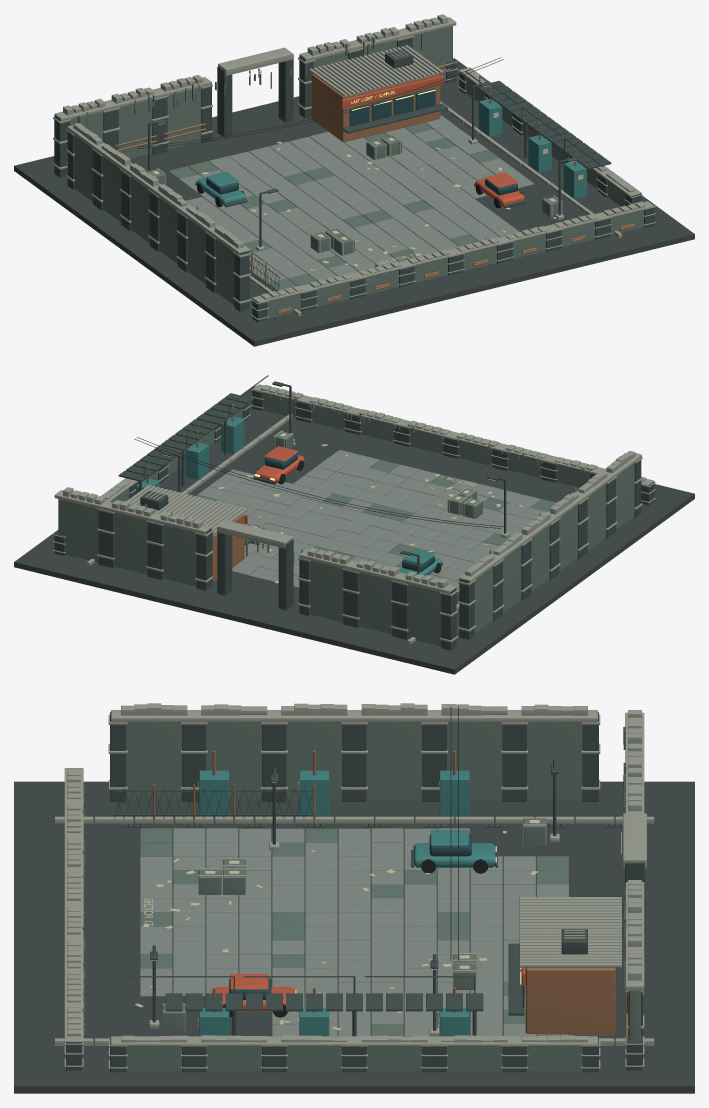
Rendered from district.glb.
3 renders of one model, top to bottom at view 1: azimuth 30°, elevation 25°; view 2: azimuth 150°, elevation 25°; view 3: azimuth 270°, elevation 25°, orthographic. The views are drawn at different scales.
Parts seen in each view (by area): view 1: District static geometry; view 2: District static geometry; view 3: District static geometry.
Boxes of the visible parts, left/top/right/bottom form: District static geometry: left=14, top=14, right=694, bottom=346; District static geometry: left=14, top=375, right=694, bottom=674; District static geometry: left=14, top=703, right=694, bottom=1093.
Bounding box in the file's own units: 36 × 5.96 × 34.
